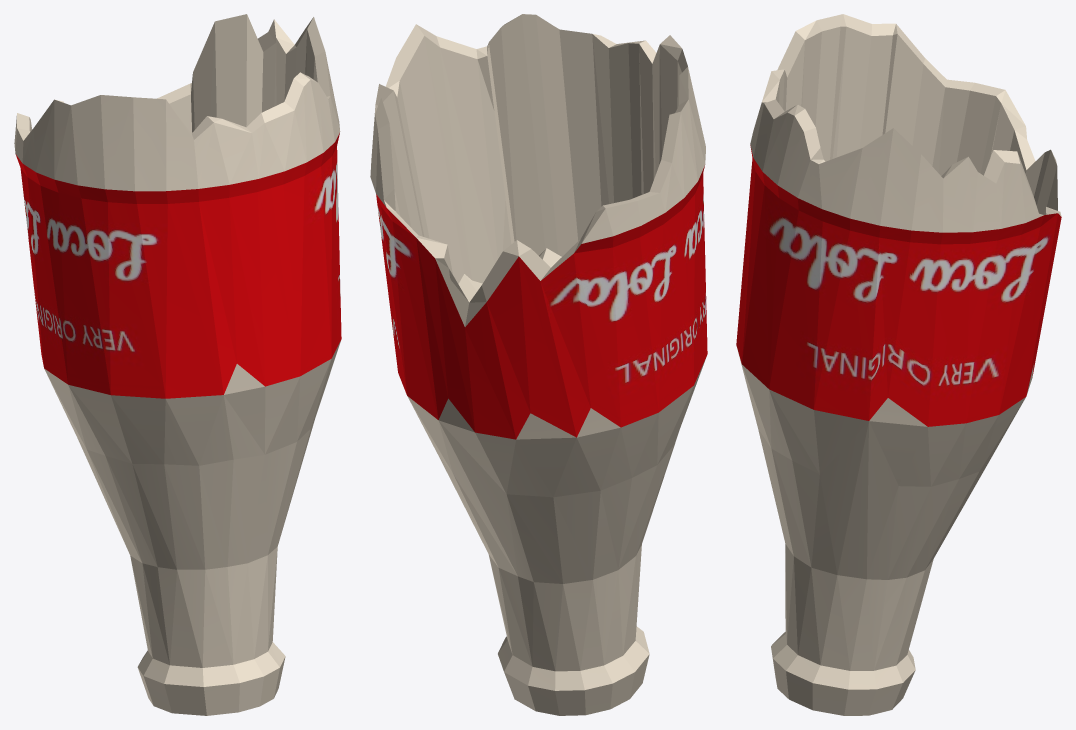
Rendered from flasa slomljena1.fbx.
3 renders of one model, left to right at view 1: azimuth 30°, elevation 25°; view 2: azimuth 150°, elevation 25°; view 3: azimuth 270°, elevation 25°, orthographic. The views are drawn at different scales.
Visible parts, largest first — view 1: localola zguzvan2.001; view 2: localola zguzvan2.001; view 3: localola zguzvan2.001.
Boxes of the visible parts, bbox=[...] form: localola zguzvan2.001: bbox=[14, 14, 341, 715]; localola zguzvan2.001: bbox=[370, 14, 707, 715]; localola zguzvan2.001: bbox=[736, 14, 1061, 715].
Size of the model in its own units: 29.64 by 63.5 by 29.69.
Materials: 2 (1 with a texture image).
